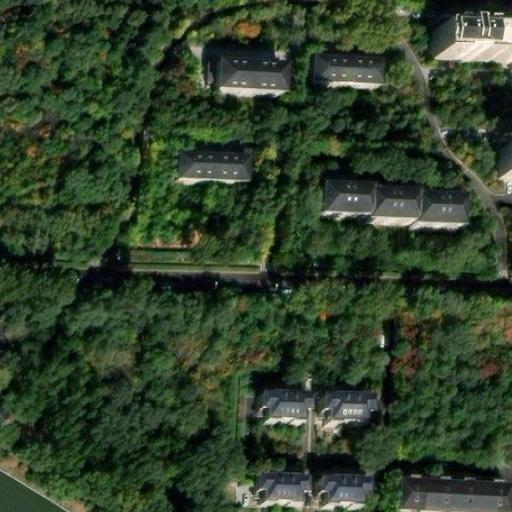building: (431, 30, 512, 62), (199, 64, 271, 99), (393, 491, 505, 512), (308, 64, 382, 94), (173, 162, 244, 192), (411, 208, 461, 243), (314, 197, 365, 231), (363, 204, 413, 237), (254, 402, 306, 431), (318, 405, 368, 434), (252, 485, 305, 512), (316, 487, 366, 512), (494, 151, 512, 180)
